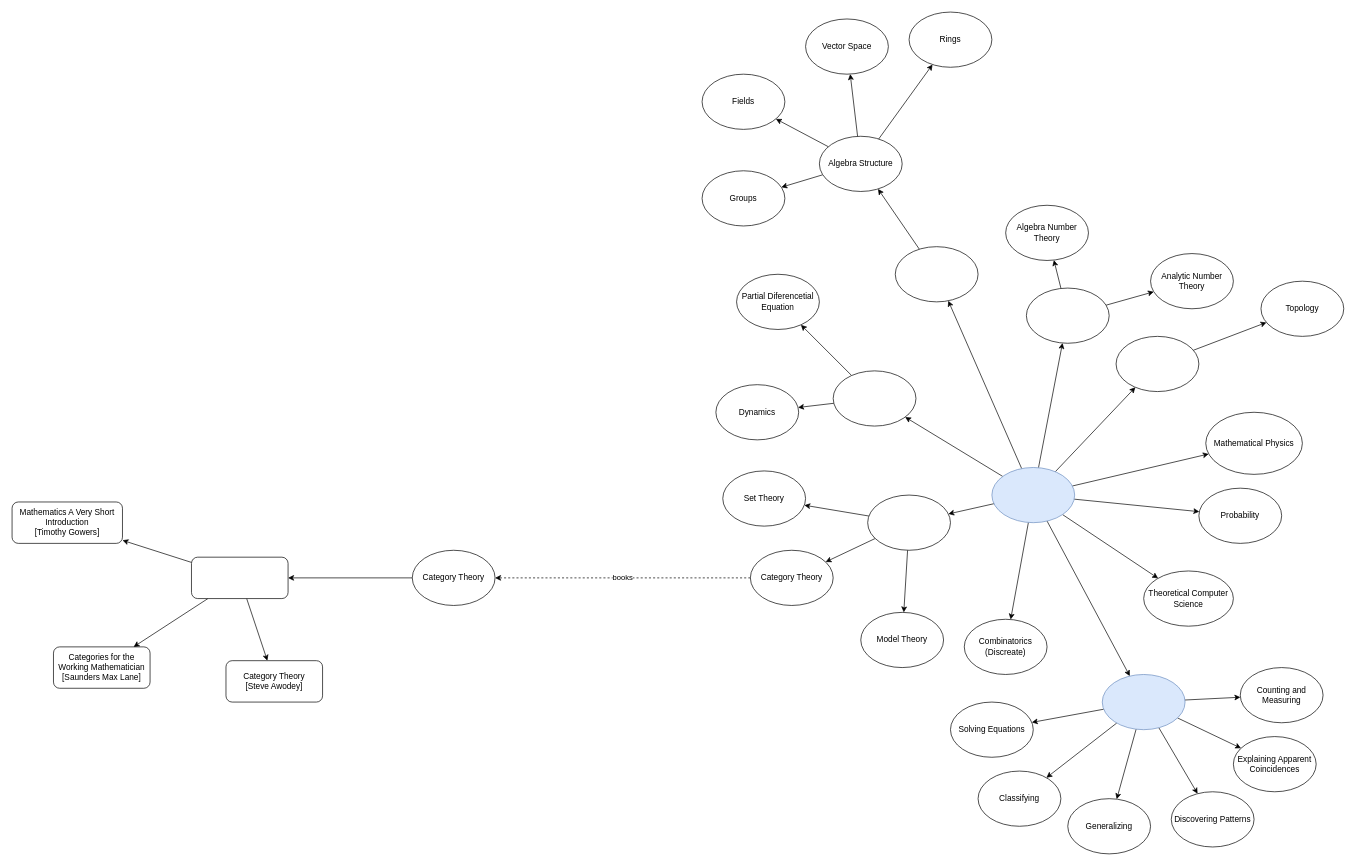
Some shapes in this 1356 by 866 pixel diagram are drawn without their labels. Each missing label, with the centre of its shape:
"Algebra" belongs at (x=936, y=274).
"Analysis" belongs at (x=874, y=398).
"Basic Category Theory [TOM LEINSTER]" belongs at (x=239, y=577).
"Geometry" belongs at (x=1157, y=364).
"Goals" belongs at (x=1143, y=702).
"Logic" belongs at (x=908, y=522).
"Math" belongs at (x=1033, y=495).
"Number Theory" belongs at (x=1067, y=315).
